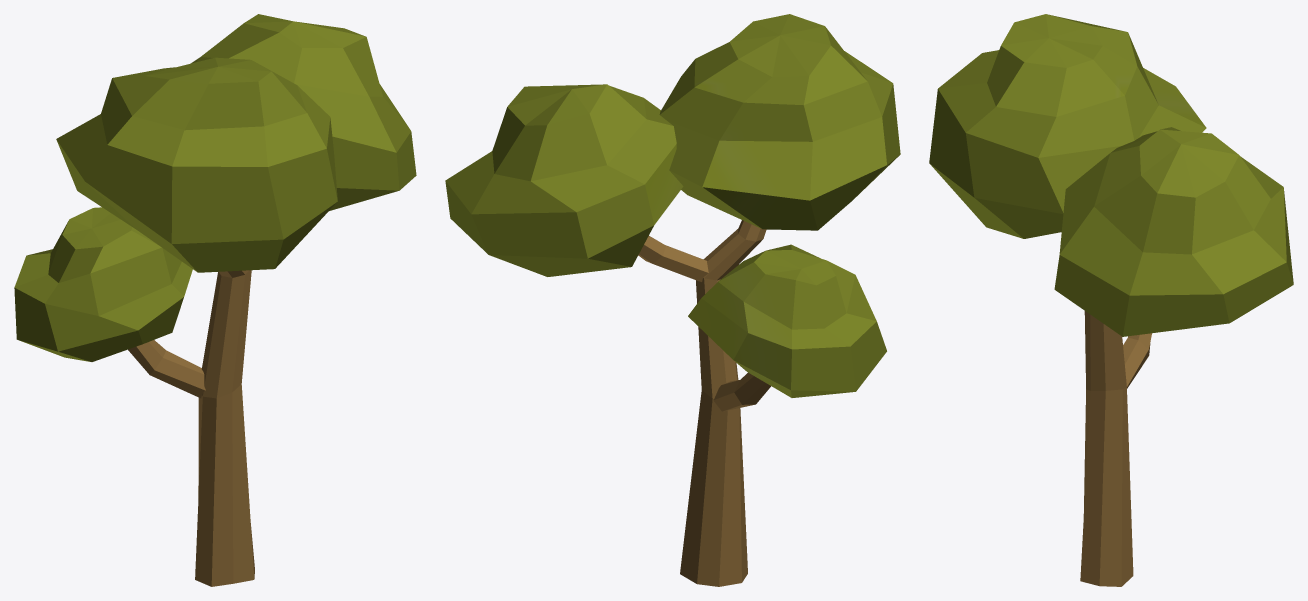
Rendered from Tree_oak_3.fbx.
The picture shows the model from 3 angles, left to right: view 1: azimuth 30°, elevation 25°; view 2: azimuth 150°, elevation 25°; view 3: azimuth 270°, elevation 25°; orthographic projection. The views are drawn at different scales.
Parts seen in each view (by area): view 1: Tree_oak_3; view 2: Tree_oak_3; view 3: Tree_oak_3.
Boxes of the visible parts, box(x1,y1,x2,y2) form: Tree_oak_3: box(14, 14, 416, 586); Tree_oak_3: box(445, 14, 900, 586); Tree_oak_3: box(929, 14, 1293, 586).
Bounding box in the file's own units: 0.3102 × 0.4105 × 0.2603.
